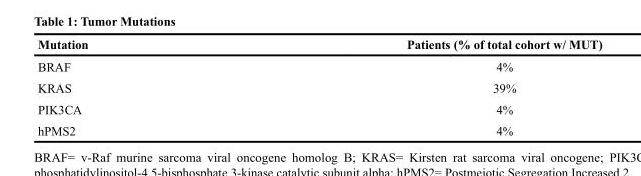table: (37, 36, 601, 137)
table column: (246, 36, 601, 137), (37, 36, 246, 137)
table column header: (37, 36, 601, 54)
table row: (37, 54, 601, 76), (37, 76, 601, 98), (37, 98, 601, 119), (37, 36, 601, 54), (37, 119, 601, 137)
